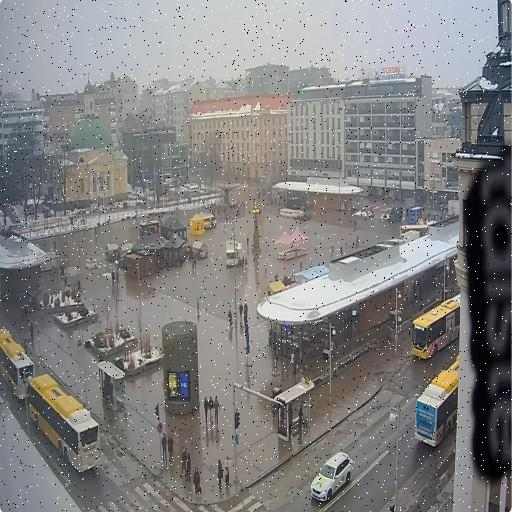Bus: (28, 374, 100, 471), (414, 356, 459, 446), (412, 294, 460, 359), (0, 328, 33, 398)
